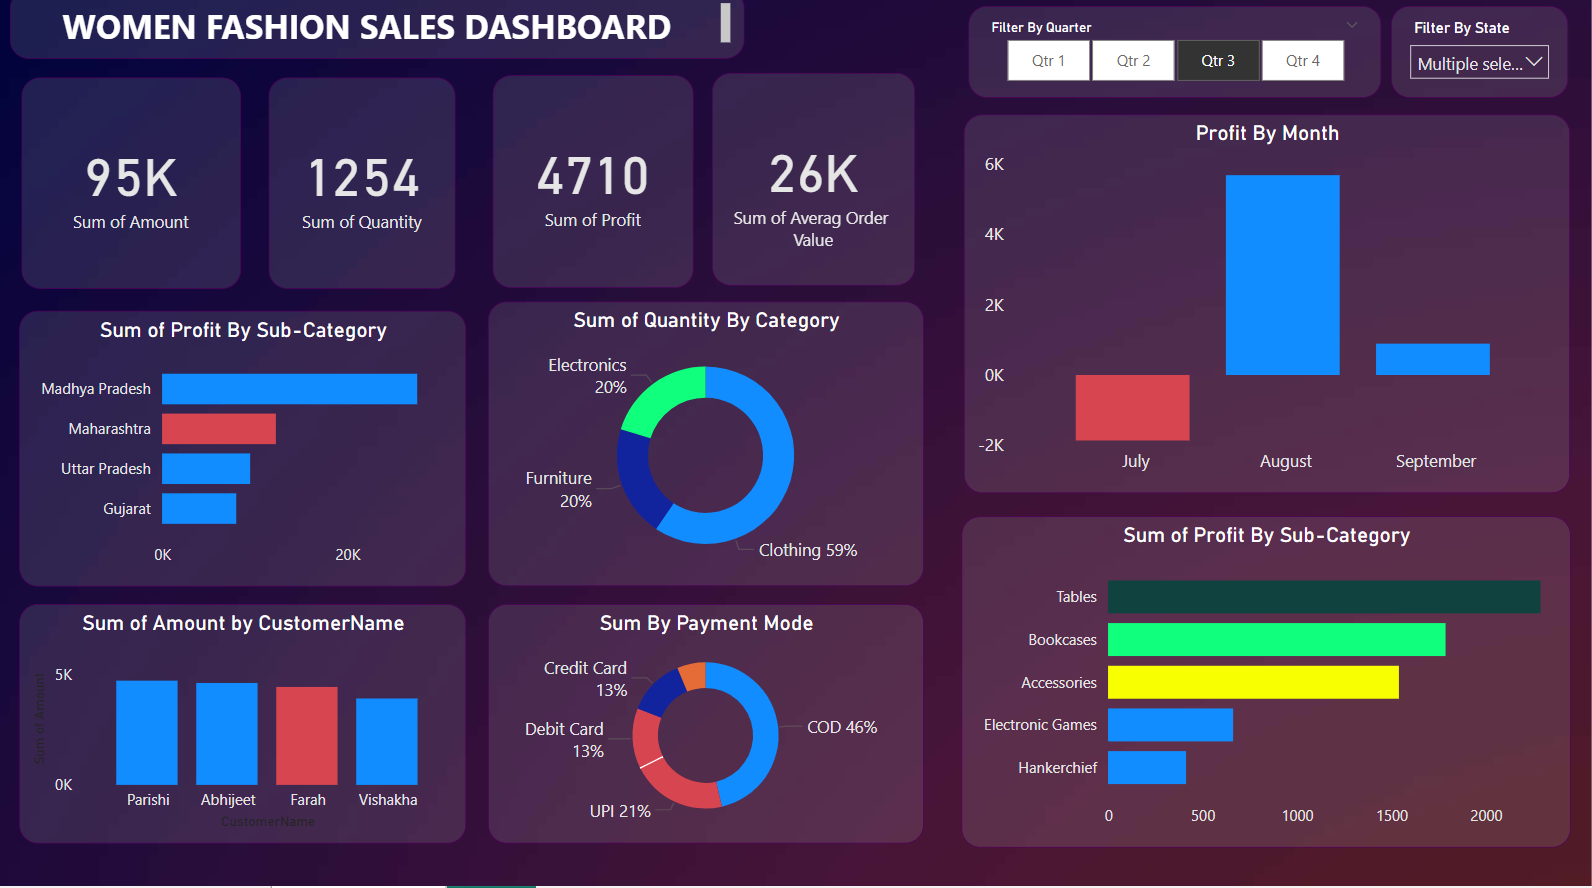

The page's visual inventory and layout, read from the dashboard file:
{"tool":"powerbi","page":{"name":"Page 1","canvas":[1280,720],"ordinal":0},"visuals":[{"type":"textbox","box":[9.3,0,589.7,55.6],"z":0},{"type":"columnChart","title":"Profit By Month","fields":{"Y":["Details.Profit"],"Category":["Orders.Order Date.Variation.Date Hierarchy.Month"]},"box":[776.1,100.2,487.1,304],"z":1000},{"type":"clusteredBarChart","title":"Sum of Profit By Sub-Category","fields":{"Category":["Details.Sub-Category"],"Y":["Details.Profit"]},"box":[773.8,422.6,489.4,266],"z":2000},{"type":"donutChart","title":"Sum of Quantity By Category","fields":{"Category":["Details.Category"],"Y":["Details.Quantity"]},"box":[393.1,250.1,349.9,228.5],"z":3000},{"type":"donutChart","title":"Sum By Payment Mode","fields":{"Y":["Details.Quantity"],"Category":["Details.PaymentMode"]},"box":[393.1,494,349.9,192.5],"z":4000},{"type":"card","fields":{"Values":["Details.Amount"]},"box":[18.5,71,176,169.8],"z":5000},{"type":"card","fields":{"Values":["Details.Quantity"]},"box":[216.1,70,150.3,169.8],"z":6000},{"type":"card","fields":{"Values":["Details.Profit"]},"box":[396.9,68.6,161.4,170.6],"z":7000},{"type":"card","fields":{"Values":["Details.AveragOrderValue"]},"box":[573.1,66.8,163.2,170.6],"z":8000},{"type":"clusteredBarChart","title":"Sum of Profit By Sub-Category","fields":{"Category":["Orders.State"],"Y":["Details.Amount"]},"box":[17.5,257.3,359.2,221.3],"z":9000},{"type":"clusteredColumnChart","fields":{"Category":["Orders.CustomerName"],"Y":["Details.Amount"]},"box":[17,494,359,192],"z":10000},{"type":"slicer","fields":{"Values":["Orders.Order Date.Variation.Date Hierarchy.Quarter"]},"box":[778.8,12.5,331.2,73.8],"z":11000},{"type":"slicer","fields":{"Values":["Orders.State"]},"box":[1118.8,13.8,142.5,73.7],"z":12000}]}

Visuals, with their boxes in screenshot pixels (x1, y1, x2, y2), scaled from the page's 1280x720 canvas onto the 1592x888 screenshot:
textbox: (12,0,745,69)
"Profit By Month" columnChart: (965,124,1571,499)
"Sum of Profit By Sub-Category" clusteredBarChart: (962,521,1571,849)
"Sum of Quantity By Category" donutChart: (489,308,924,590)
"Sum By Payment Mode" donutChart: (489,609,924,847)
card - Details.Amount: (23,88,242,297)
card - Details.Quantity: (269,86,456,296)
card - Details.Profit: (494,85,694,295)
card - Details.AveragOrderValue: (713,82,916,293)
"Sum of Profit By Sub-Category" clusteredBarChart: (22,317,469,590)
clusteredColumnChart - Orders.CustomerName x Details.Amount: (21,609,468,846)
slicer - Orders.Order Date.Variation.Date Hierarchy.Quarter: (969,15,1381,106)
slicer - Orders.State: (1392,17,1569,108)
